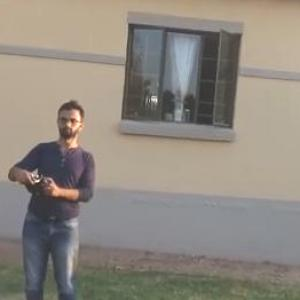follow: (6, 87, 100, 299)
